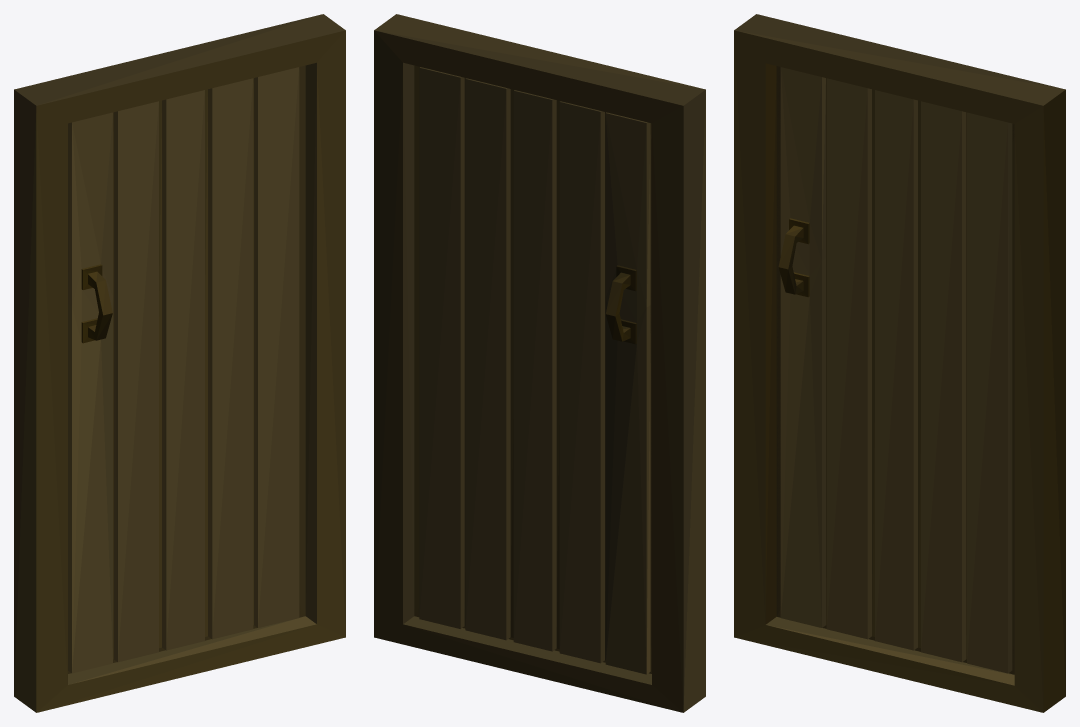
Rendered from door.obj.
The picture shows the model from 3 angles, left to right: view 1: azimuth 30°, elevation 25°; view 2: azimuth 150°, elevation 25°; view 3: azimuth 330°, elevation 25°; orthographic projection.
Visible parts, largest first — view 1: Object Door 2026-09-12_20-30-39; view 2: Object Door 2026-09-12_20-30-39; view 3: Object Door 2026-09-12_20-30-39.
Boxes of the visible parts, left/top/right/bottom form: Object Door 2026-09-12_20-30-39: left=14, top=14, right=345, bottom=712; Object Door 2026-09-12_20-30-39: left=374, top=14, right=705, bottom=712; Object Door 2026-09-12_20-30-39: left=734, top=14, right=1065, bottom=712.
Bounding box in the file's own units: 128 × 240 × 33.
